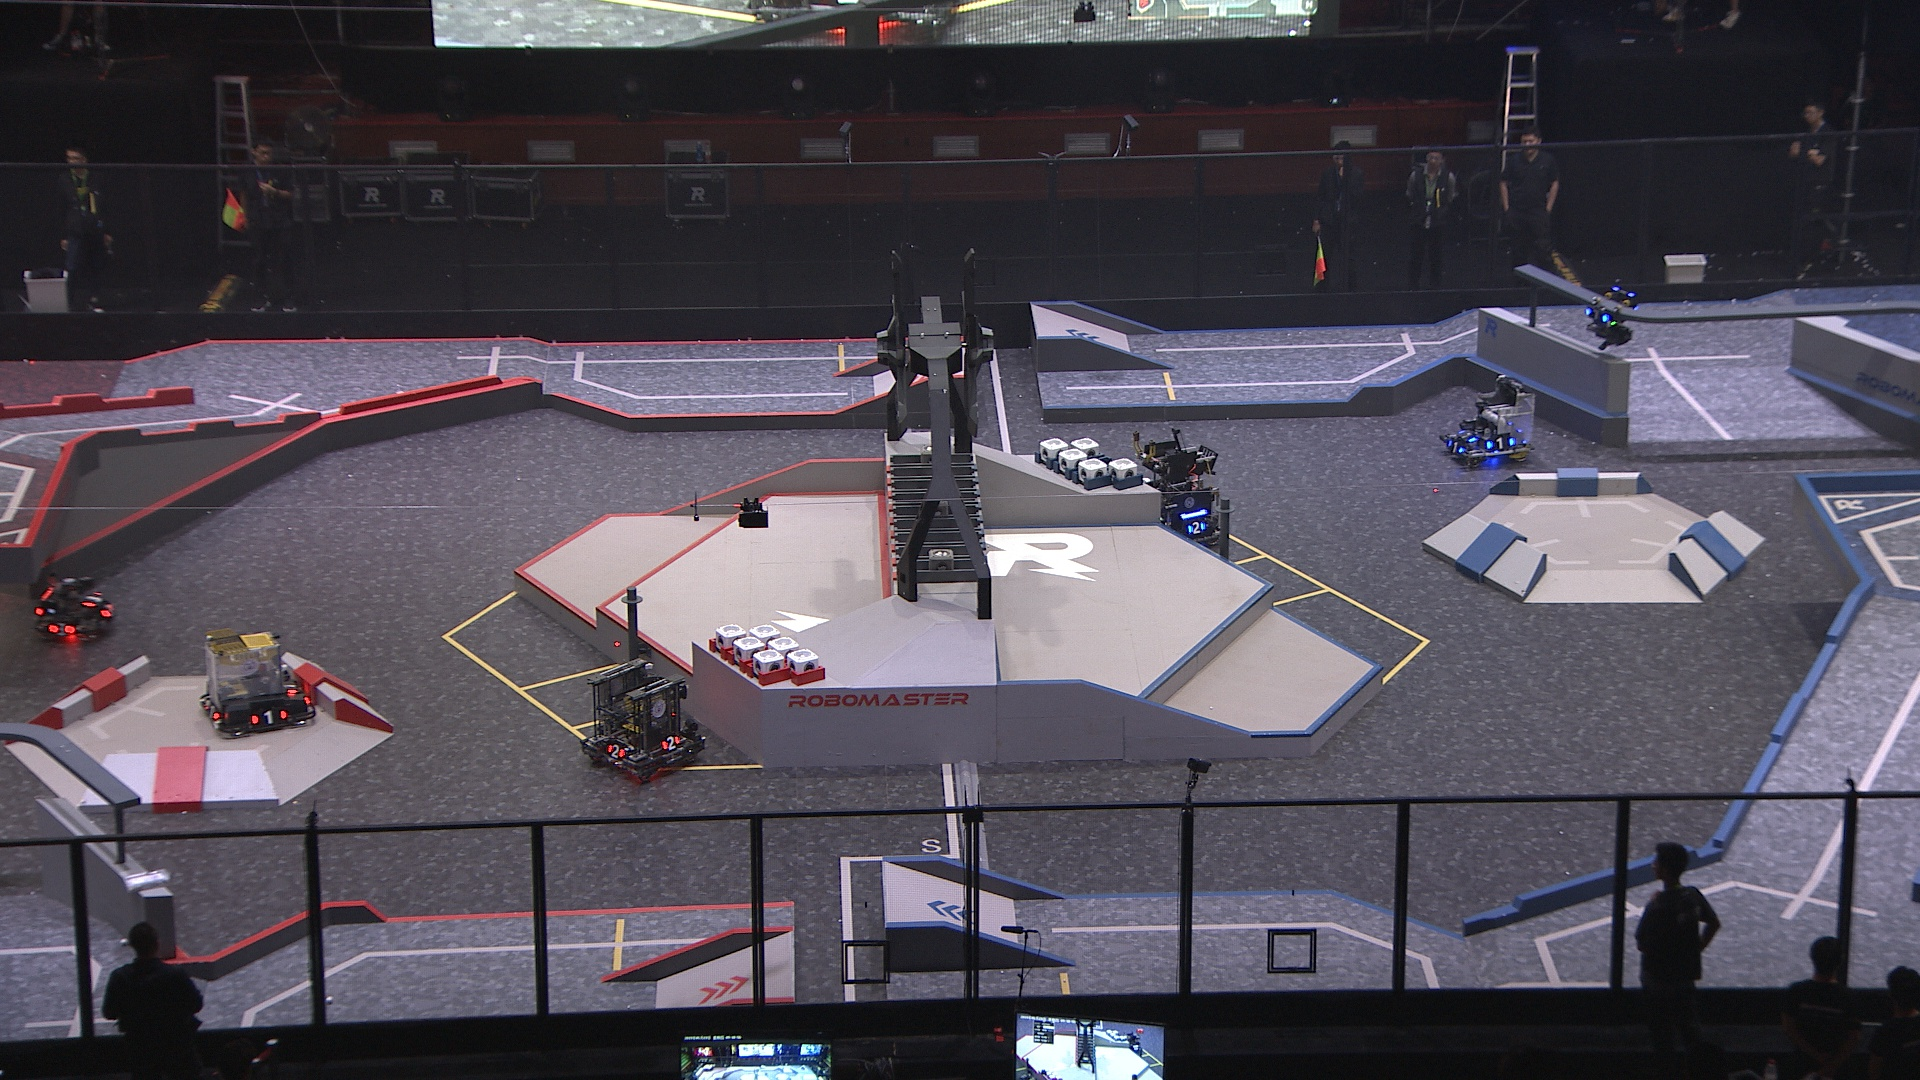armor: (251, 709, 289, 727), (46, 618, 76, 640), (1580, 305, 1611, 324), (1484, 436, 1516, 452), (1457, 425, 1480, 446), (84, 589, 105, 609), (605, 740, 626, 760), (1185, 520, 1207, 535), (1448, 440, 1466, 458), (659, 736, 680, 750), (204, 702, 218, 723), (281, 678, 297, 695)
car: (580, 657, 704, 785), (190, 624, 319, 738), (1138, 433, 1228, 546), (1443, 376, 1539, 465), (26, 566, 117, 647)
watcher: (1576, 277, 1640, 348)
